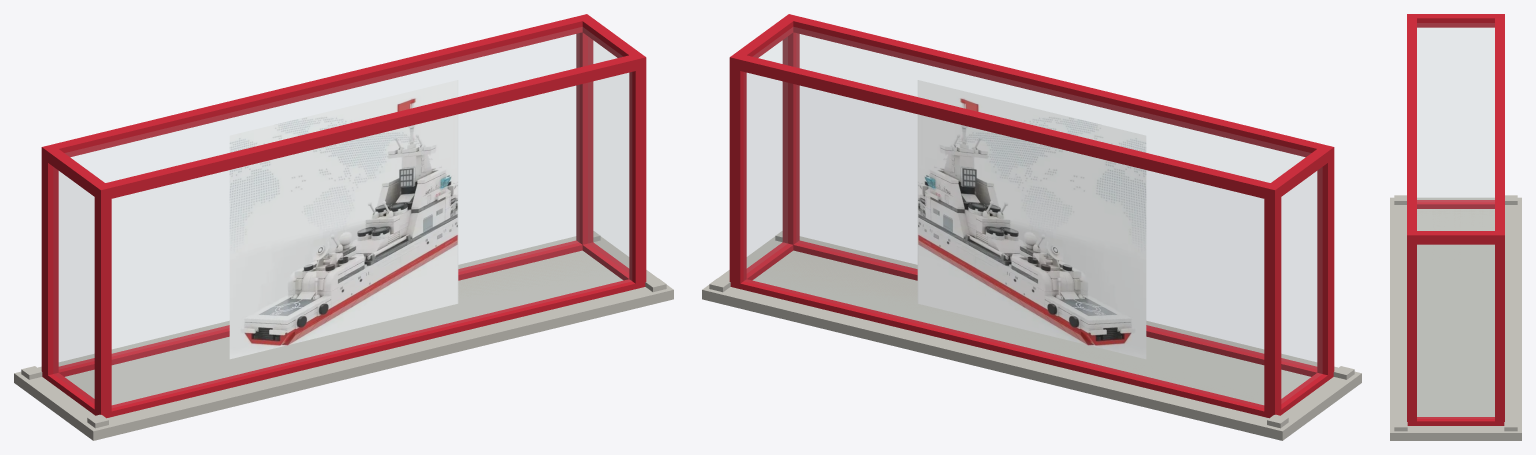
Rendered from navy-the-type-055-destroyer-aircraft-carrier.glb.
The picture shows the model from 3 angles, left to right: view 1: azimuth 30°, elevation 25°; view 2: azimuth 150°, elevation 25°; view 3: azimuth 270°, elevation 25°; orthographic projection. The views are drawn at different scales.
Size of the model in its own units: 0.38 by 0.1495 by 0.09.
Materials: 4 (1 with a texture image).
